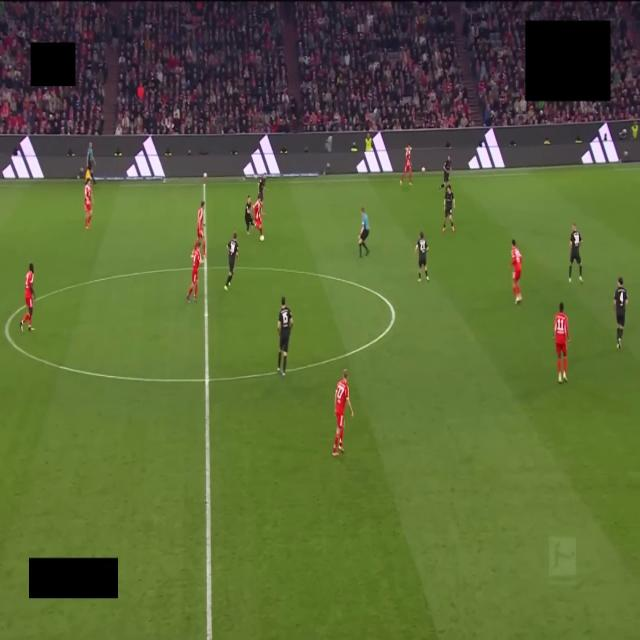ball: (260, 235, 264, 241)
player: (333, 369, 353, 455), (277, 296, 293, 376), (554, 303, 569, 383), (20, 264, 34, 331), (187, 240, 202, 302), (614, 277, 627, 348), (224, 232, 238, 291), (569, 224, 583, 282), (510, 240, 521, 303), (194, 200, 206, 257), (415, 232, 428, 281), (443, 184, 454, 232), (401, 145, 412, 185), (84, 176, 92, 230), (439, 156, 451, 189), (254, 197, 263, 239), (245, 196, 254, 234), (258, 175, 266, 199)
referee: (358, 208, 369, 257)
